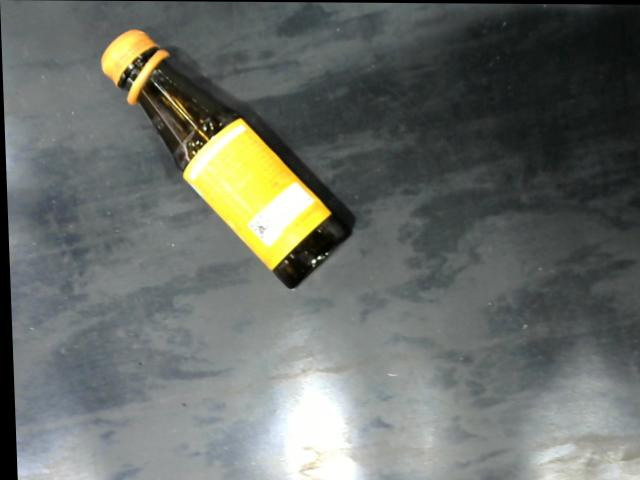glass: (84, 19, 358, 289)
